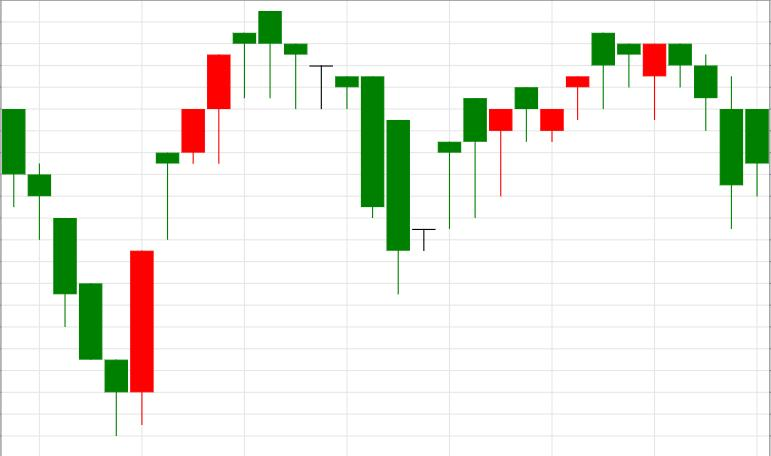hammer_rise: (3, 109, 128, 436)
hanging_man_fall: (130, 11, 282, 426), (412, 33, 615, 251)
